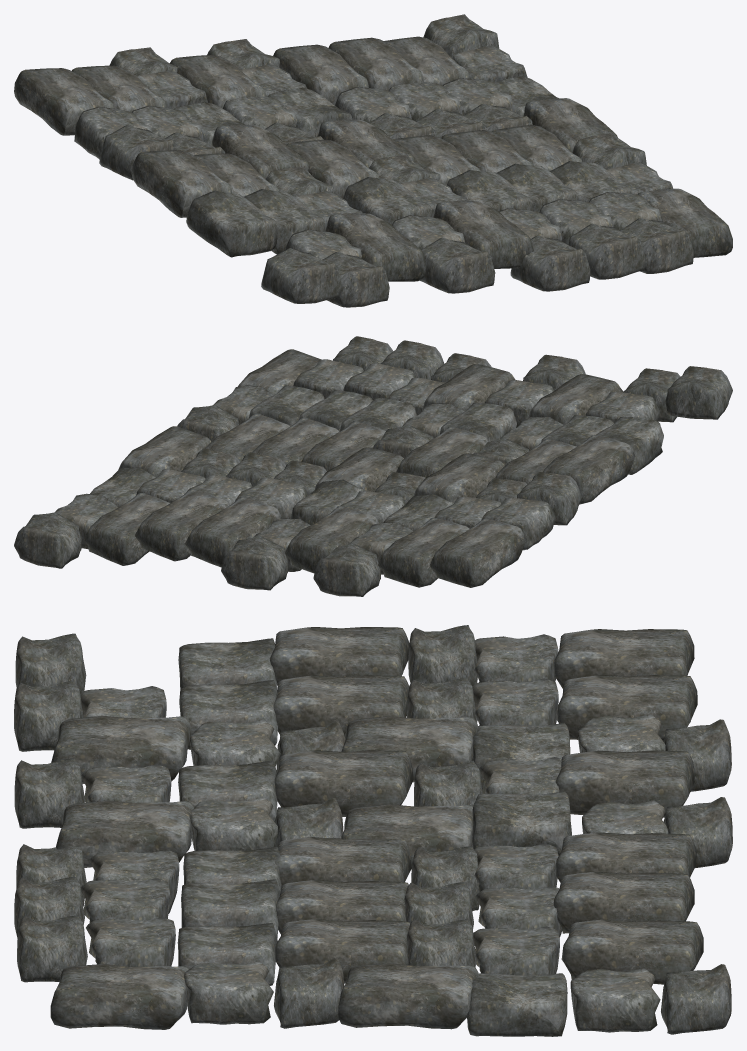
The model's file is Stone.fbx.
The picture shows the model from 3 angles, top to bottom: view 1: azimuth 30°, elevation 25°; view 2: azimuth 150°, elevation 25°; view 3: azimuth 270°, elevation 25°; orthographic projection. The views are drawn at different scales.
Visible parts, largest first — view 1: Steps; view 2: Steps; view 3: Steps.
Part boxes in pixels (x1=…): Steps: x1=14, y1=14, x2=732, y2=307; Steps: x1=14, y1=336, x2=732, y2=596; Steps: x1=14, y1=625, x2=732, y2=1036.
Size of the model in its own units: 3.75 by 0.873 by 3.96.
